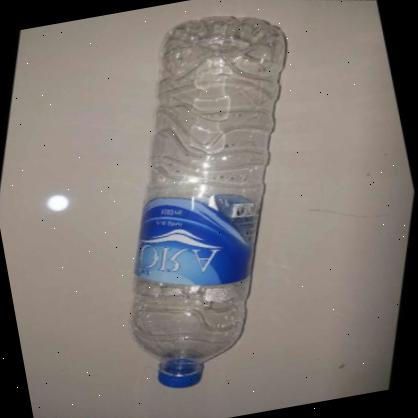bottle: (78, 4, 348, 402)
cap: (148, 362, 216, 393)
label: (120, 176, 286, 302)
